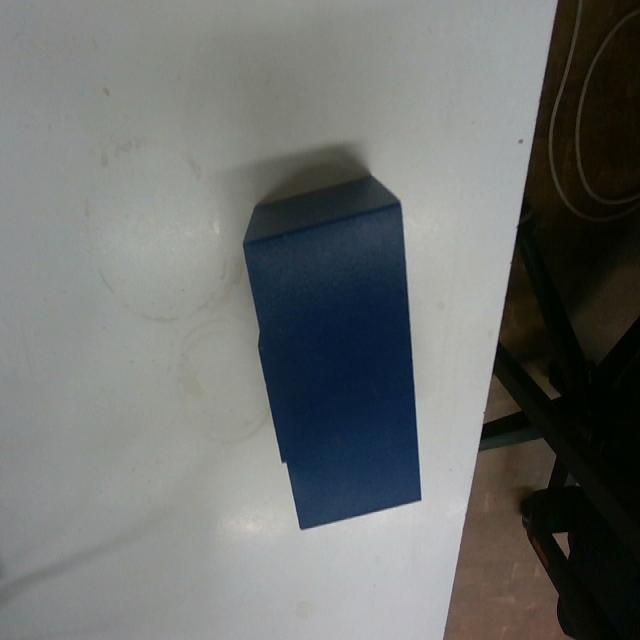Blue Cuboid: (240, 170, 424, 530)
